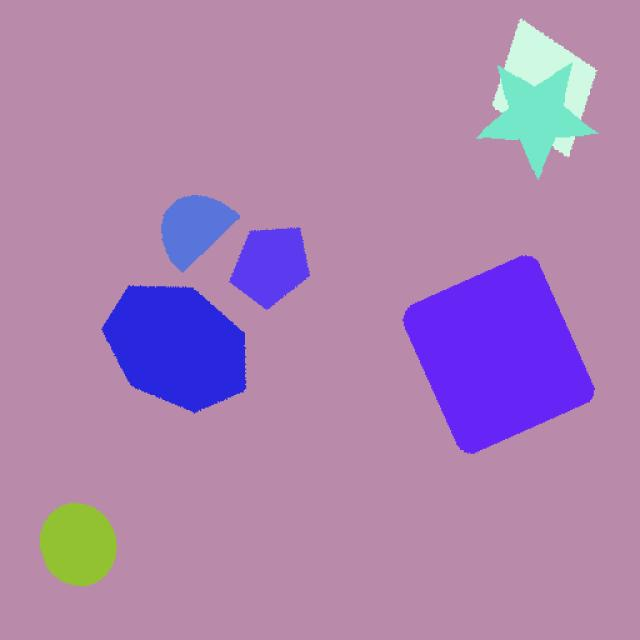Circle: (31, 486, 122, 602)
Heptagon: (74, 272, 265, 438)
Kite: (479, 16, 610, 156)
Pentagon: (224, 220, 318, 316)
Semicircle: (148, 186, 242, 274)
Star: (476, 62, 603, 178)
square: (381, 243, 607, 464)
